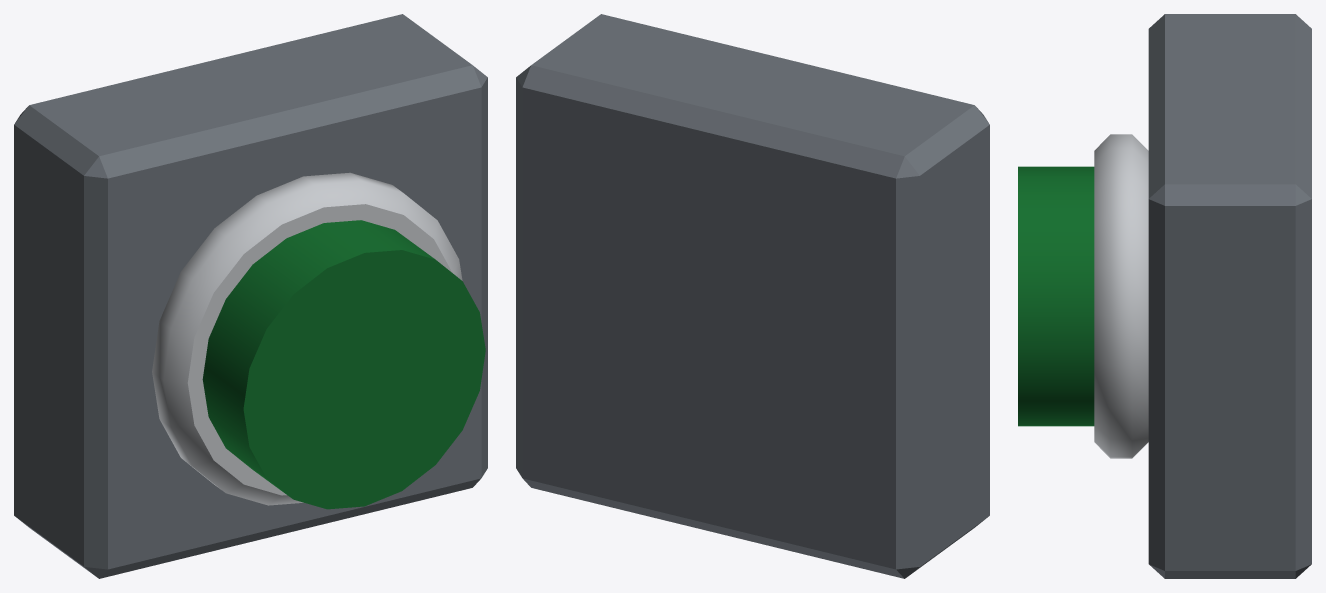
The model's file is push_button_green.glb.
3 renders of one model, left to right at view 1: azimuth 30°, elevation 25°; view 2: azimuth 150°, elevation 25°; view 3: azimuth 270°, elevation 25°, orthographic. The views are drawn at different scales.
Visible parts, largest first — view 1: Button_Static, Button; view 2: Button_Static; view 3: Button_Static, Button.
Boxes of the visible parts, <box> form: Button_Static: <box>14,14,487,578</box>; Button: <box>202,220,485,509</box>; Button_Static: <box>516,14,989,578</box>; Button_Static: <box>1094,14,1311,578</box>; Button: <box>1018,166,1094,426</box>.
Size of the model in its own units: 0.08 by 0.08 by 0.054.
